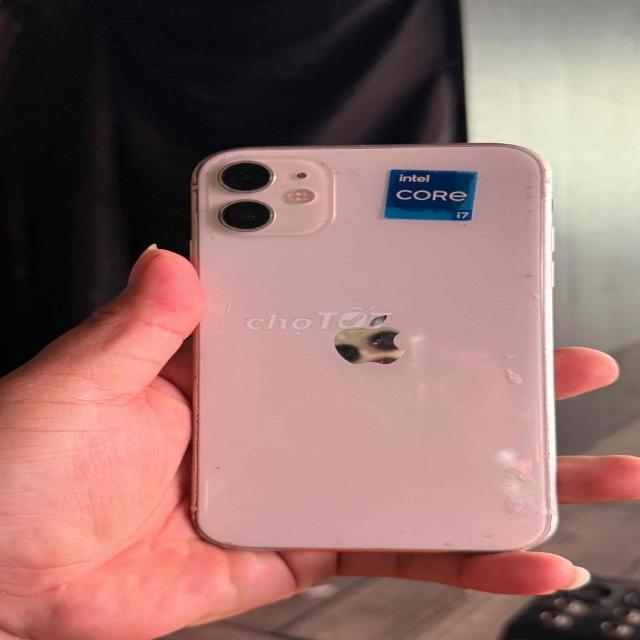scratch: (491, 346, 552, 546), (530, 163, 545, 341), (306, 157, 371, 182), (203, 148, 250, 178), (196, 214, 226, 252), (412, 529, 466, 547), (362, 338, 402, 353), (270, 150, 290, 162), (212, 464, 223, 474)
